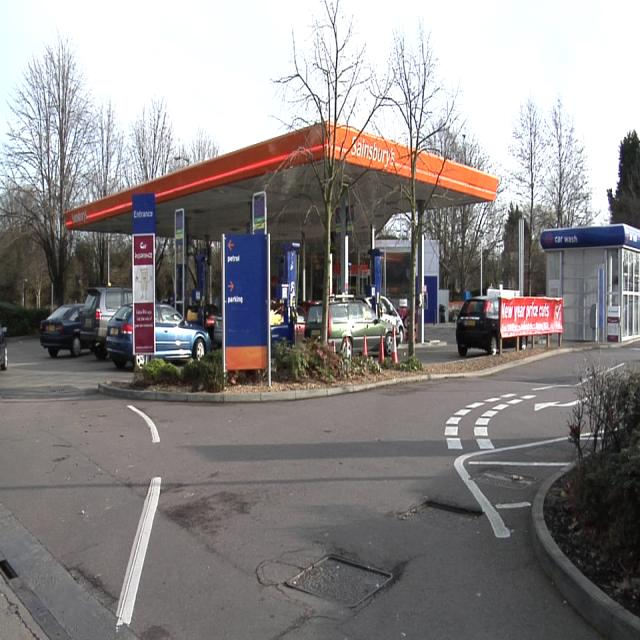Car: (40, 287, 134, 367), (151, 303, 210, 359), (330, 300, 391, 353), (455, 297, 500, 356)
Road: (0, 345, 639, 638)
Tree: (274, 2, 599, 296), (0, 37, 220, 303), (608, 132, 640, 226)
